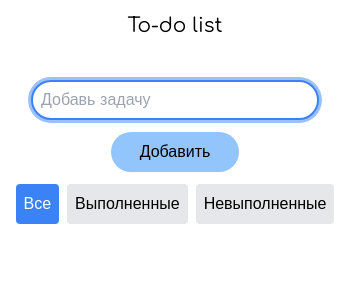
it: add new task
Type "New Task" into the field with placeholder "Добавь задачу".
click(175, 100); type("New Task")  # box [31,80,319,120]
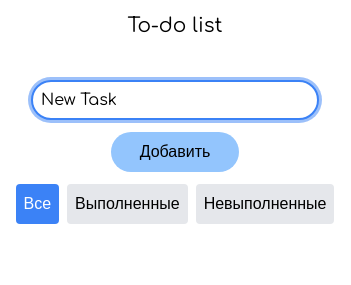
Click the button "Добавить".
click(175, 152)  # box [111,132,239,172]
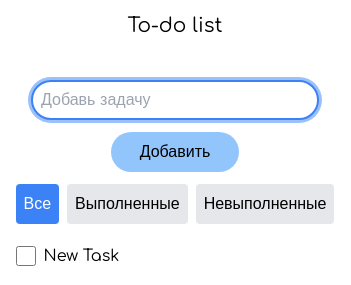
expect the text "New Task" is shown: met, box [44,244,119,268]
